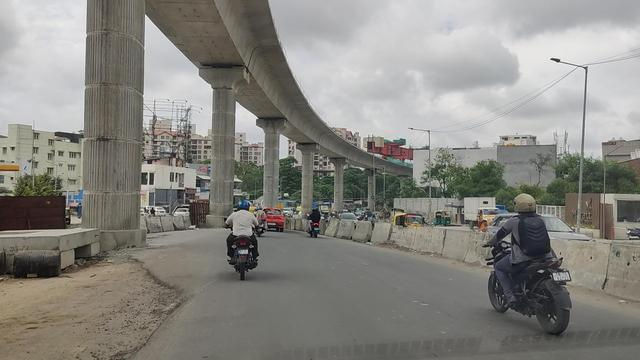LMV: (484, 192, 575, 337), (229, 201, 259, 276), (309, 209, 321, 239)
RoadDamages: (124, 253, 190, 317), (110, 319, 170, 359)
